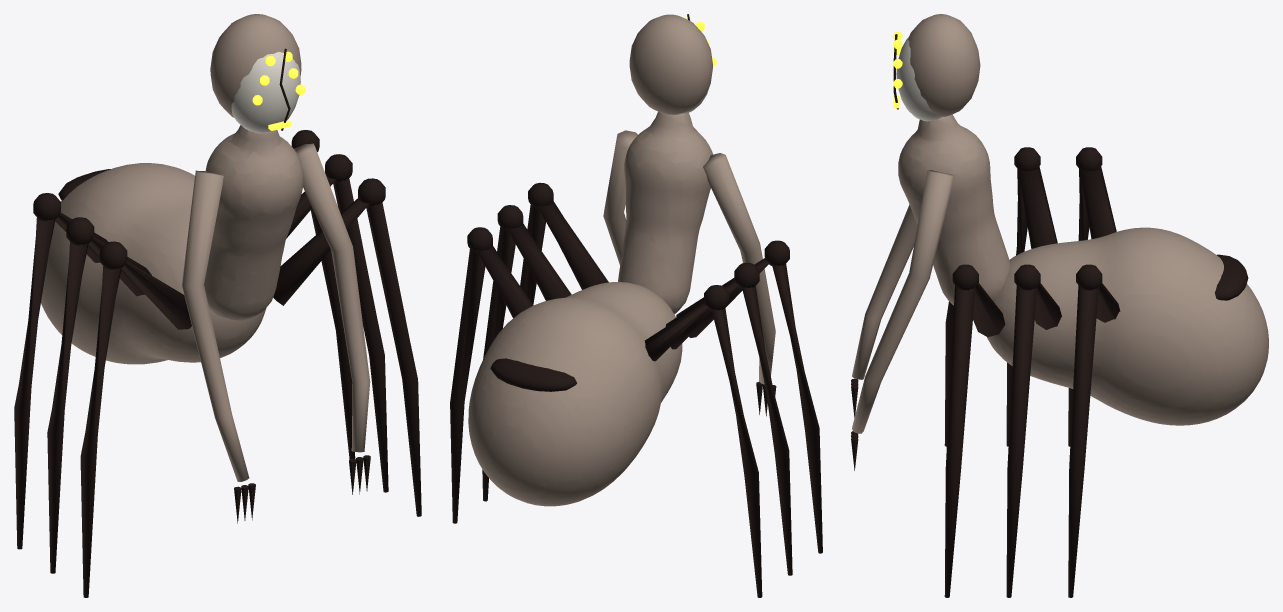
The model's file is crawler.glb.
3 renders of one model, left to right at view 1: azimuth 30°, elevation 25°; view 2: azimuth 150°, elevation 25°; view 3: azimuth 270°, elevation 25°, orthographic. The views are drawn at different scales.
Parts seen in each view (by area): view 1: crawler_mesh, upper, head_mesh, leg_1_mesh, arm_0_mesh, arm_1_mesh, leg_0_mesh, leg_3_mesh, leg_4_mesh, leg_2_mesh, leg_5_mesh; view 2: crawler_mesh, upper, head_mesh, leg_5_mesh, leg_4_mesh, leg_3_mesh, leg_0_mesh, arm_0_mesh, leg_2_mesh, leg_1_mesh, arm_1_mesh; view 3: crawler_mesh, upper, head_mesh, leg_1_mesh, leg_2_mesh, arm_1_mesh, leg_5_mesh, leg_3_mesh, arm_0_mesh, leg_4_mesh, leg_0_mesh.
Boxes of the visible parts, left/top/right/bottom form: crawler_mesh: left=41, top=163, right=266, bottom=364; upper: left=204, top=125, right=303, bottom=320; head_mesh: left=210, top=14, right=305, bottom=133; leg_1_mesh: left=273, top=178, right=421, bottom=516; arm_0_mesh: left=182, top=170, right=255, bottom=523; arm_1_mesh: left=294, top=143, right=370, bottom=494; leg_0_mesh: left=80, top=241, right=191, bottom=597; leg_3_mesh: left=47, top=217, right=151, bottom=573; leg_4_mesh: left=14, top=193, right=108, bottom=549; leg_2_mesh: left=286, top=154, right=388, bottom=492; leg_5_mesh: left=291, top=130, right=355, bottom=458; crawler_mesh: left=468, top=282, right=682, bottom=506; upper: left=618, top=111, right=712, bottom=314; head_mesh: left=629, top=14, right=716, bottom=115; leg_5_mesh: left=450, top=227, right=533, bottom=523; leg_4_mesh: left=645, top=285, right=762, bottom=597; leg_3_mesh: left=665, top=262, right=792, bottom=575; leg_0_mesh: left=676, top=240, right=822, bottom=553; arm_0_mesh: left=703, top=153, right=776, bottom=416; leg_2_mesh: left=482, top=205, right=571, bottom=501; leg_1_mesh: left=520, top=182, right=608, bottom=304; arm_1_mesh: left=603, top=130, right=667, bottom=392; crawler_mesh: left=987, top=227, right=1268, bottom=425; upper: left=898, top=114, right=1010, bottom=305; head_mesh: left=893, top=14, right=980, bottom=121; leg_1_mesh: left=944, top=264, right=1005, bottom=597; leg_2_mesh: left=1006, top=264, right=1061, bottom=597; arm_1_mesh: left=851, top=170, right=954, bottom=470; leg_5_mesh: left=1068, top=264, right=1120, bottom=597; leg_3_mesh: left=1006, top=147, right=1057, bottom=446; arm_0_mesh: left=851, top=204, right=917, bottom=417; leg_4_mesh: left=1068, top=147, right=1116, bottom=446; leg_0_mesh: left=944, top=301, right=953, bottom=446.
Size of the model in its own units: 1.18 by 1.8 by 1.35.
